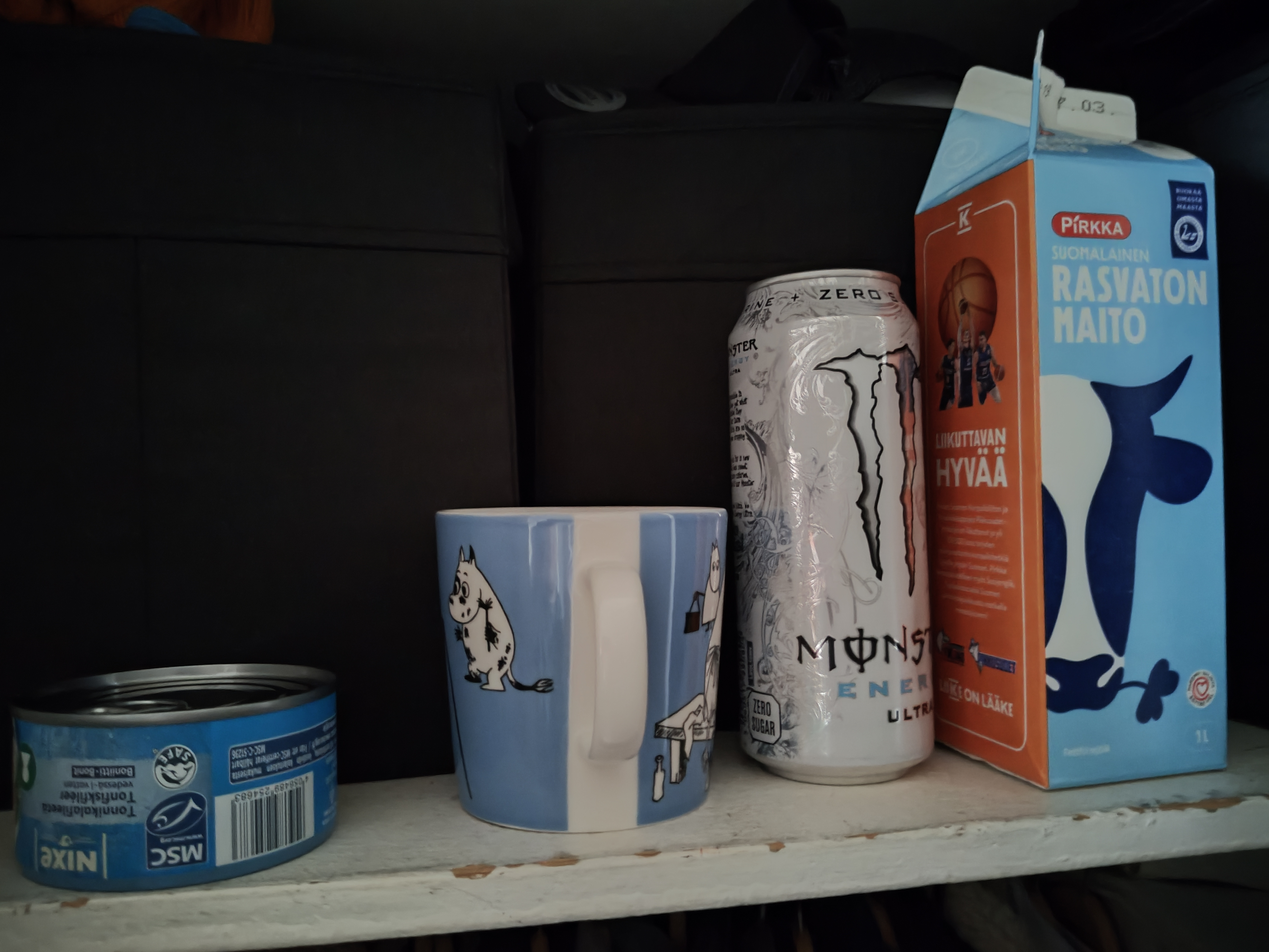Dryckeskartong: (925, 27, 1229, 791)
Konservburk: (11, 664, 337, 893)
Pantburk: (728, 269, 935, 787)
